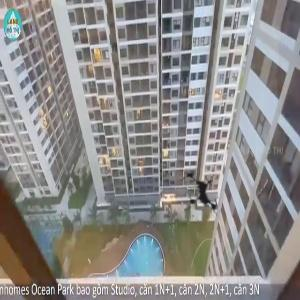drone: (160, 155, 241, 236)
